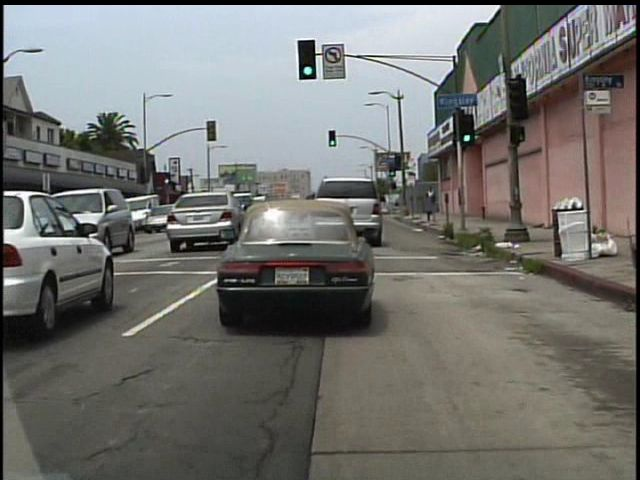person: (423, 183, 438, 213)
